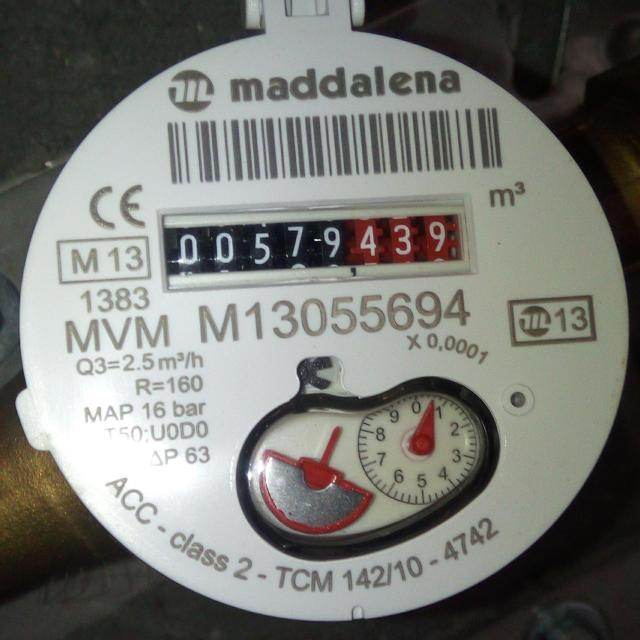gaz_meter: (20, 32, 633, 626)
indication: (158, 198, 470, 288)
